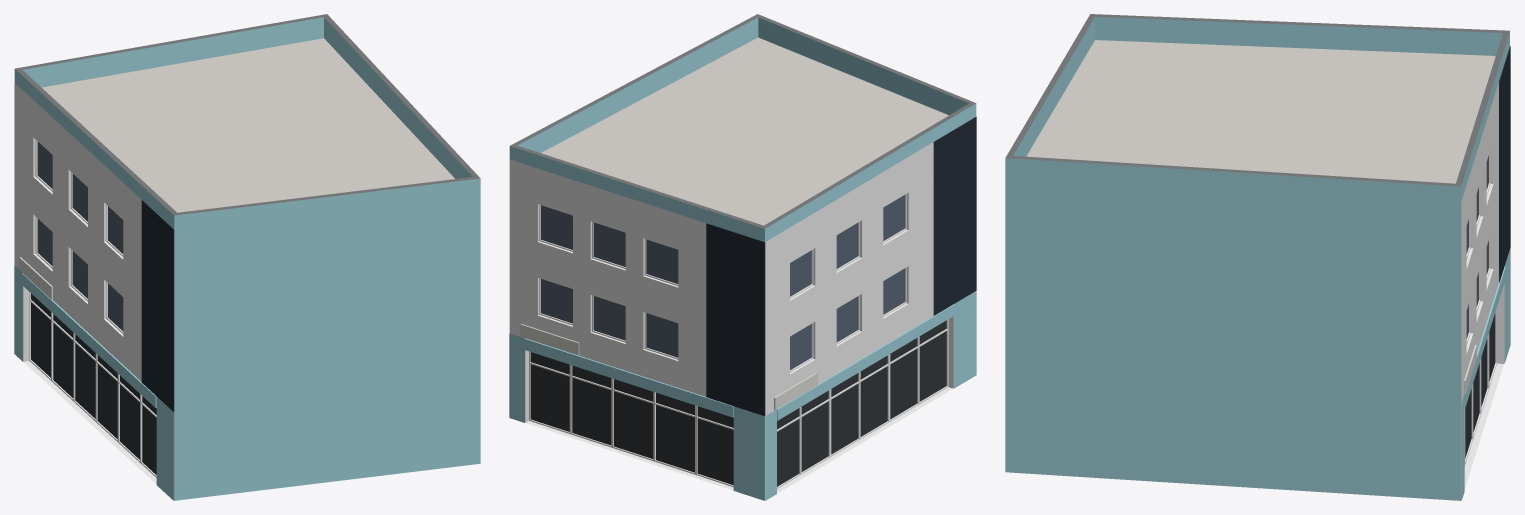
The model's file is hoffman525.glb.
3 views of the same model, side by side, from view 1: azimuth 30°, elevation 25°; view 2: azimuth 150°, elevation 25°; view 3: azimuth 270°, elevation 25° (orthographic). The views are drawn at different scales.
Parts seen in each view (by area): view 1: hoffman525; view 2: hoffman525; view 3: hoffman525.
Part boxes in pixels (x1,y1,x2,y2): hoffman525: [14, 14, 480, 500]; hoffman525: [509, 14, 976, 500]; hoffman525: [1005, 14, 1510, 500].
Bounding box in the file's own units: 14.4 × 12.2 × 17.78.
